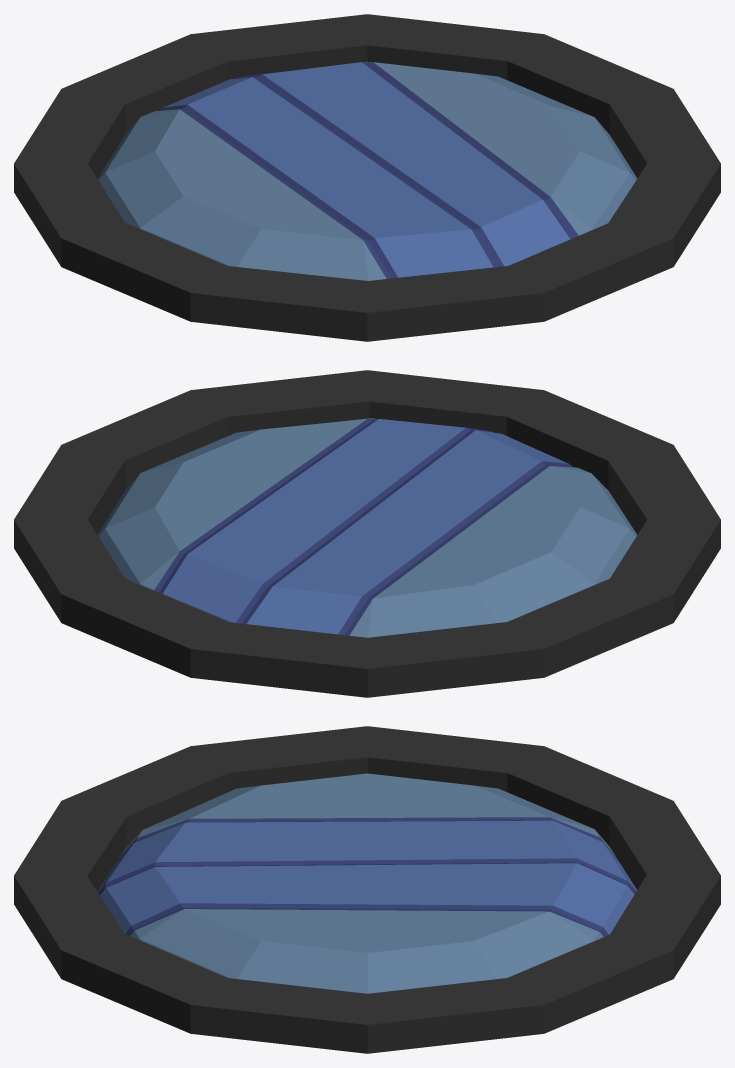
File: F_Shield_C_Blue.fbx
3 renders of one model, top to bottom at view 1: azimuth 30°, elevation 25°; view 2: azimuth 150°, elevation 25°; view 3: azimuth 270°, elevation 25°, orthographic.
Parts seen in each view (by area): view 1: F_Shield_C_Blue; view 2: F_Shield_C_Blue; view 3: F_Shield_C_Blue.
Boxes of the visible parts, <box> form: F_Shield_C_Blue: <box>14,14,720,341</box>; F_Shield_C_Blue: <box>14,370,720,697</box>; F_Shield_C_Blue: <box>14,726,720,1053</box>.
Size of the model in its own units: 75.7 by 7.63 by 75.7.
